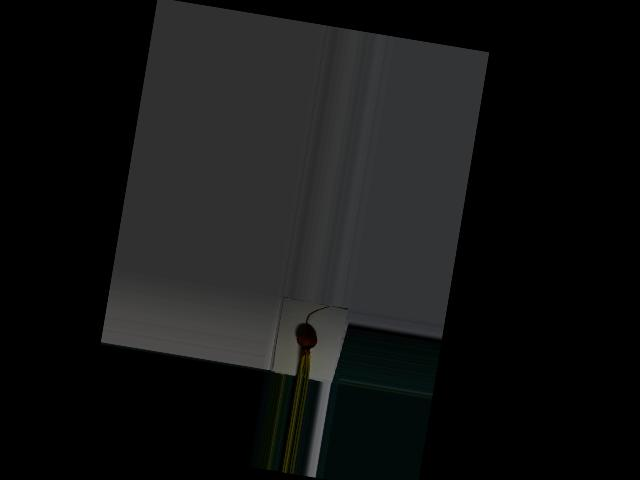beet: (290, 302, 328, 380)
